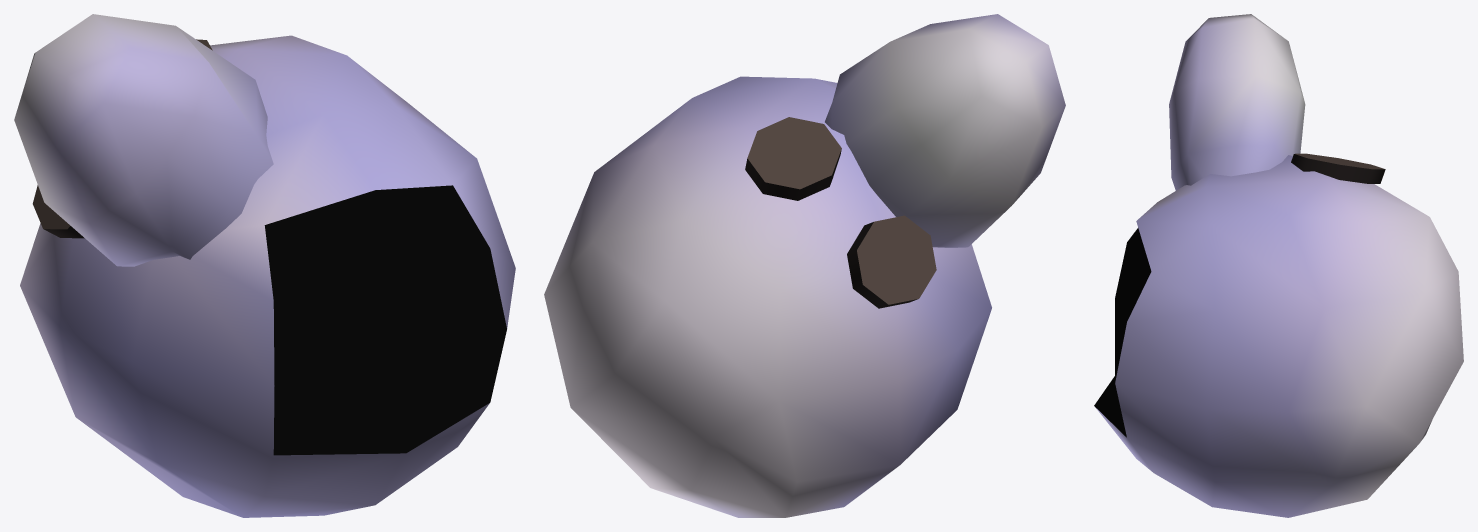
Rendered from IglooSnowmanHead.fbx.
3 renders of one model, left to right at view 1: azimuth 30°, elevation 25°; view 2: azimuth 150°, elevation 25°; view 3: azimuth 270°, elevation 25°, orthographic. The views are drawn at different scales.
Visible parts, largest first — view 1: IglooSnowmanHead; view 2: IglooSnowmanHead; view 3: IglooSnowmanHead.
Part boxes in pixels (<box>): IglooSnowmanHead: <box>14,14,515,517</box>; IglooSnowmanHead: <box>544,14,1065,517</box>; IglooSnowmanHead: <box>1094,14,1463,517</box>.
Size of the model in its own units: 29.65 by 31.59 by 26.3.
